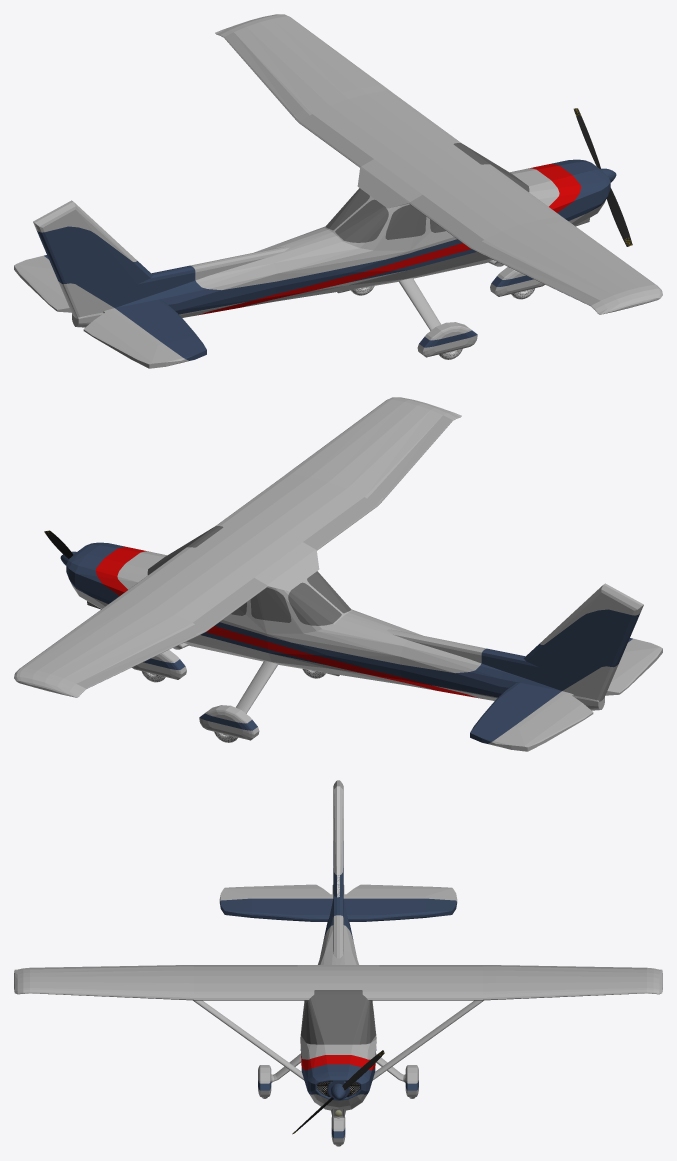
The picture shows the model from 3 angles, top to bottom: view 1: azimuth 30°, elevation 25°; view 2: azimuth 150°, elevation 25°; view 3: azimuth 270°, elevation 25°; orthographic projection. The views are drawn at different scales.
Parts seen in each view (by area): view 1: mesh19_mesh19-geometry, mesh2_mesh2-geometry, mesh9_mesh9-geometry, mesh6_mesh6-geometry; view 2: mesh19_mesh19-geometry, mesh16_mesh16-geometry, mesh9_mesh9-geometry; view 3: mesh19_mesh19-geometry.
Part boxes in pixels (x1,y1,x2,y2): mesh19_mesh19-geometry: [14, 14, 662, 368]; mesh2_mesh2-geometry: [417, 322, 477, 357]; mesh9_mesh9-geometry: [490, 267, 544, 296]; mesh6_mesh6-geometry: [606, 188, 632, 246]; mesh19_mesh19-geometry: [14, 397, 662, 751]; mesh16_mesh16-geometry: [199, 705, 259, 740]; mesh9_mesh9-geometry: [132, 650, 186, 679]; mesh19_mesh19-geometry: [14, 780, 662, 1118].
Size of the model in its own units: 0.641 by 0.2184 by 0.7358.
Materials: 20 (2 with a texture image).
